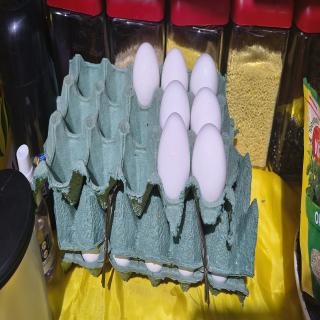Egg: (190, 115, 226, 206), (158, 118, 190, 196), (108, 202, 136, 282), (74, 201, 105, 272), (140, 211, 166, 294), (130, 37, 159, 104), (175, 222, 199, 300), (187, 82, 222, 134), (207, 228, 231, 298), (159, 79, 190, 130), (158, 39, 188, 90), (190, 48, 220, 96)
